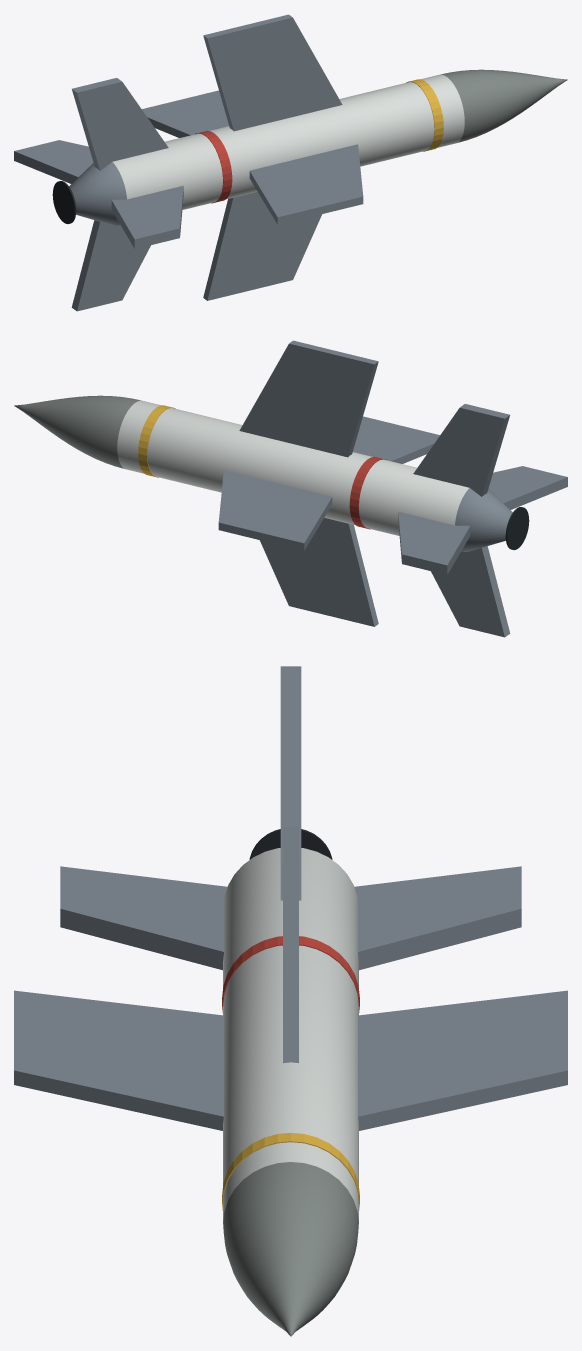
Rendered from agm65e_maverick.glb.
3 views of the same model, one above another, from view 1: azimuth 30°, elevation 25°; view 2: azimuth 150°, elevation 25°; view 3: azimuth 270°, elevation 25° (orthographic). The views are drawn at different scales.
Visible parts, largest first — view 1: agm65e_maverick; view 2: agm65e_maverick; view 3: agm65e_maverick.
Part boxes in pixels (left/top/right/bottom): agm65e_maverick: left=14, top=14, right=567, bottom=311; agm65e_maverick: left=14, top=340, right=567, bottom=637; agm65e_maverick: left=14, top=666, right=567, bottom=1336.
Bounding box in the file's own units: 10 × 4.98 × 4.98.
